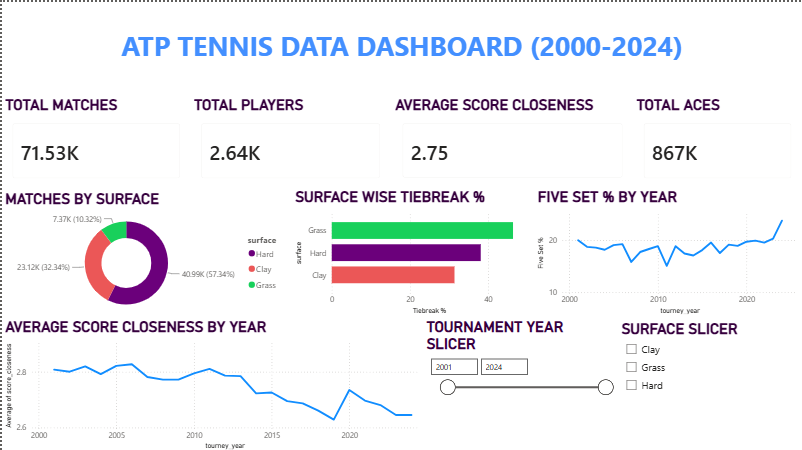

Layout of this report page (visuals, bound fields, positions):
{"tool":"powerbi","page":{"name":"Overview","canvas":[1280,720],"ordinal":0},"visuals":[{"type":"cardVisual","title":"TOTAL MATCHES","fields":{"Data":["CountNonNull(tennis_db fact_matches.match_id)"]},"box":[0,150,302.5,150],"z":0},{"type":"cardVisual","title":"TOTAL PLAYERS","fields":{"Data":["Count(tennis_db dim_players.player_id)"]},"box":[302.5,150,320,150],"z":1000},{"type":"cardVisual","title":"AVERAGE SCORE CLOSENESS","fields":{"Data":["Avg(tennis_db fact_matches.score_closeness)"]},"box":[623.3,150,386.7,148.3],"z":2000},{"type":"textbox","box":[0,0,1280,150],"z":3000},{"type":"cardVisual","title":"TOTAL ACES","fields":{"Data":["tennis_db dim_players.Total Aces"]},"box":[1010,150,270,150],"z":4000},{"type":"donutChart","title":"MATCHES BY SURFACE","fields":{"Category":["tennis_db fact_matches.surface"],"Y":["Count(tennis_db fact_matches.match_id)"]},"box":[0,300,463.3,208.3],"z":5000},{"type":"barChart","title":"SURFACE WISE TIEBREAK %","fields":{"Category":["tennis_db fact_matches.surface"],"Y":["tennis_db dim_players.Tiebreak %"]},"box":[463.3,298.3,388.3,206.7],"z":6000},{"type":"lineChart","title":"AVERAGE SCORE CLOSENESS BY YEAR","fields":{"Category":["tennis_db fact_matches.tourney_year"],"Y":["Avg(tennis_db fact_matches.score_closeness)"]},"box":[0,505,673.3,215],"z":7000},{"type":"lineChart","title":"FIVE SET % BY YEAR","fields":{"Y":["tennis_db dim_players.Five Set %"],"Category":["tennis_db fact_matches.tourney_year"]},"box":[851.7,298.3,428.3,206.7],"z":8000},{"type":"slicer","title":"TOURNAMENT YEAR SLICER","fields":{"Values":["tennis_db fact_matches.tourney_year"]},"box":[673.3,505,313.3,215],"z":9000},{"type":"slicer","title":"SURFACE SLICER","fields":{"Values":["tennis_db fact_matches.surface"]},"box":[986.7,508.3,293.3,211.7],"z":10000}]}

Visuals, with their boxes in screenshot pixels (x1, y1, x2, y2), scaled from the page's 1280x720 canvas onto the 802x450 screenshot:
"TOTAL MATCHES" cardVisual: (0, 94, 190, 188)
"TOTAL PLAYERS" cardVisual: (190, 94, 390, 188)
"AVERAGE SCORE CLOSENESS" cardVisual: (391, 94, 633, 186)
textbox: (0, 0, 801, 94)
"TOTAL ACES" cardVisual: (633, 94, 801, 188)
"MATCHES BY SURFACE" donutChart: (0, 188, 290, 318)
"SURFACE WISE TIEBREAK %" barChart: (290, 186, 534, 316)
"AVERAGE SCORE CLOSENESS BY YEAR" lineChart: (0, 316, 422, 449)
"FIVE SET % BY YEAR" lineChart: (534, 186, 801, 316)
"TOURNAMENT YEAR SLICER" slicer: (422, 316, 618, 449)
"SURFACE SLICER" slicer: (618, 318, 801, 449)
